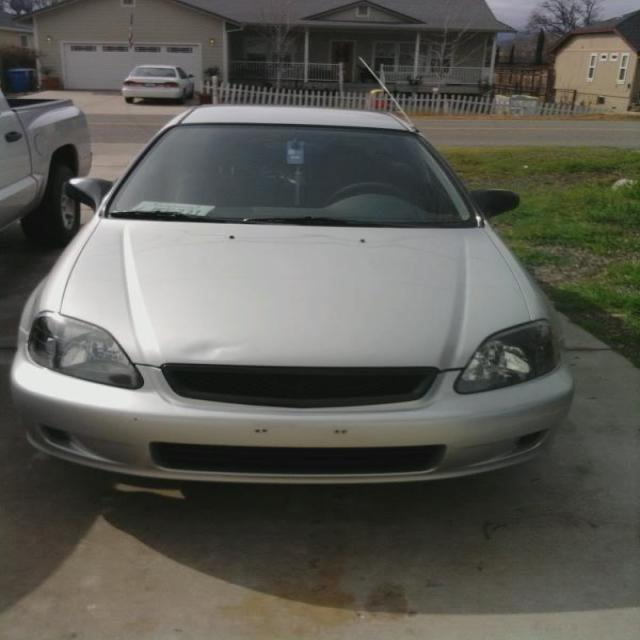dent: (174, 338, 254, 364)
